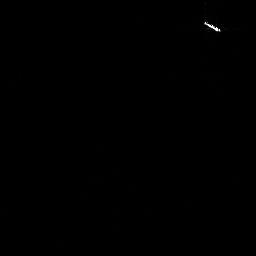ship: (203, 20, 222, 34)
